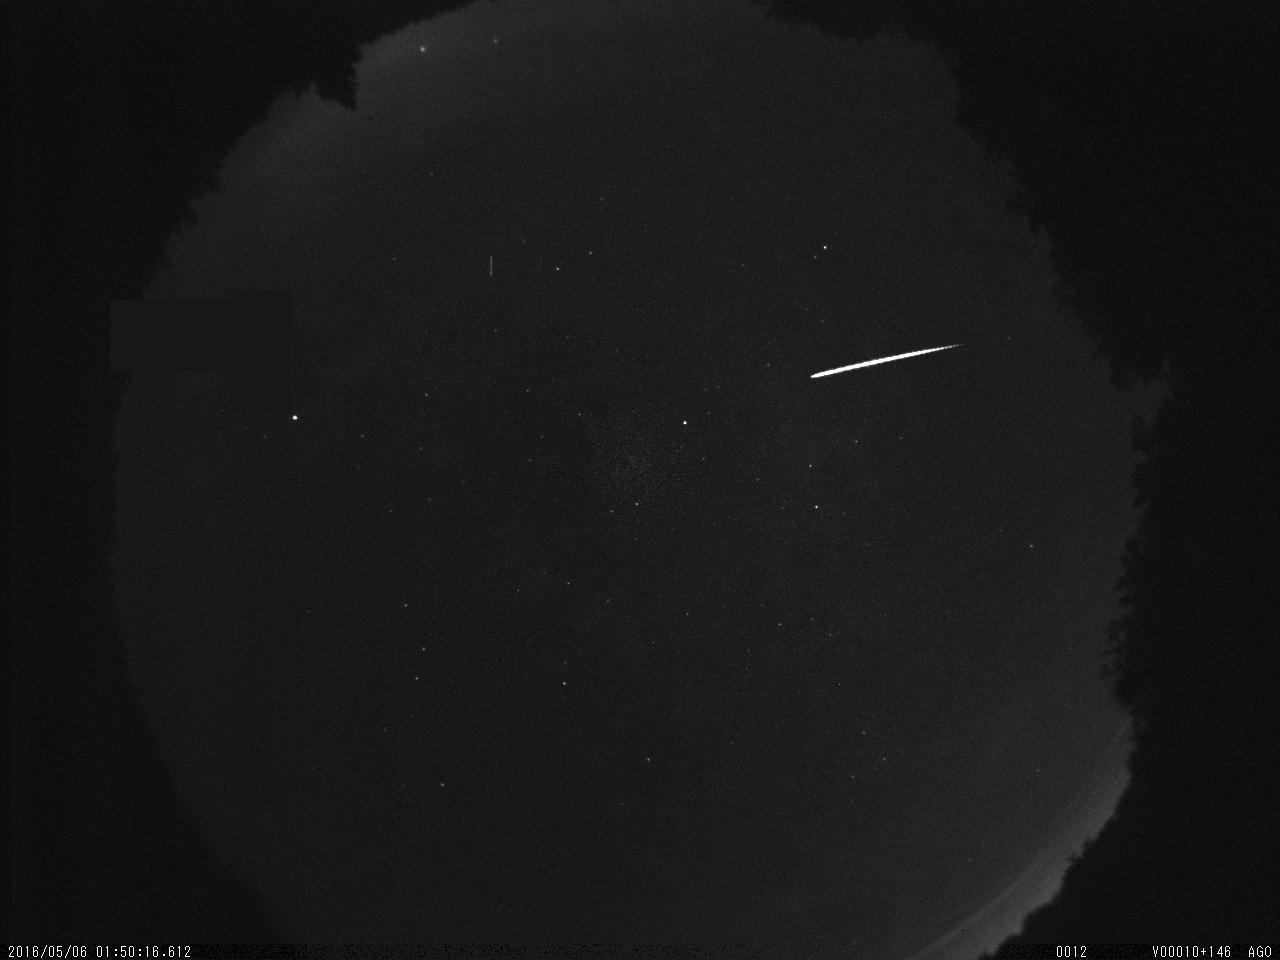meteor: (754, 308, 994, 401)
